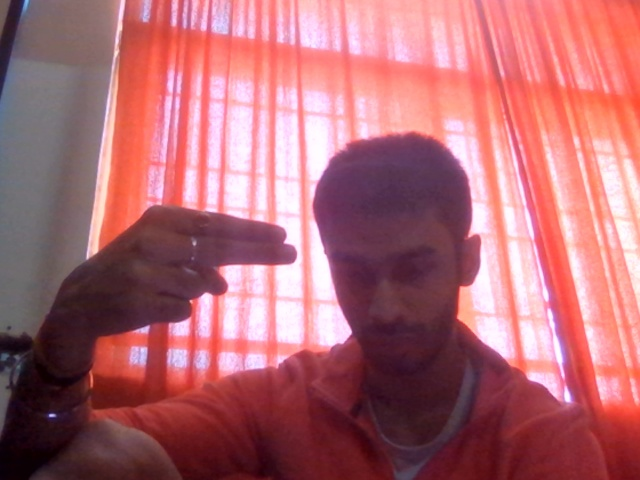H: (21, 166, 309, 391)
